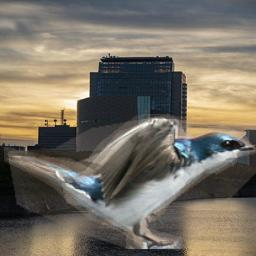Swallow: (4, 114, 256, 249)
